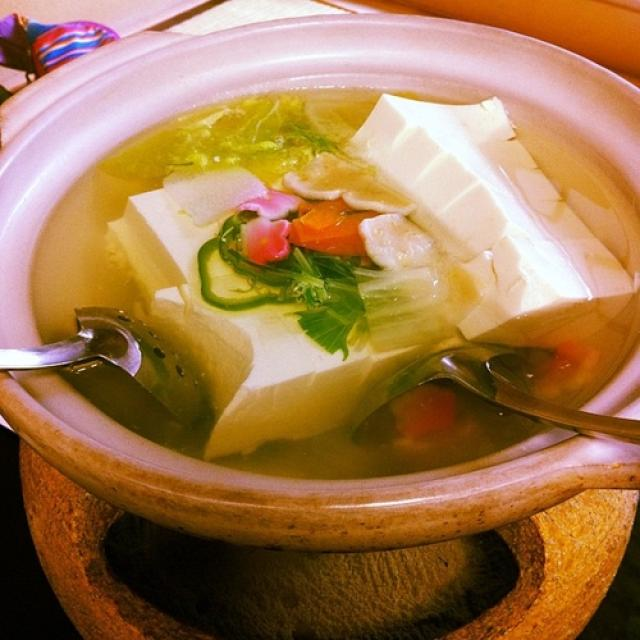豆腐料理: (37, 50, 634, 482)
